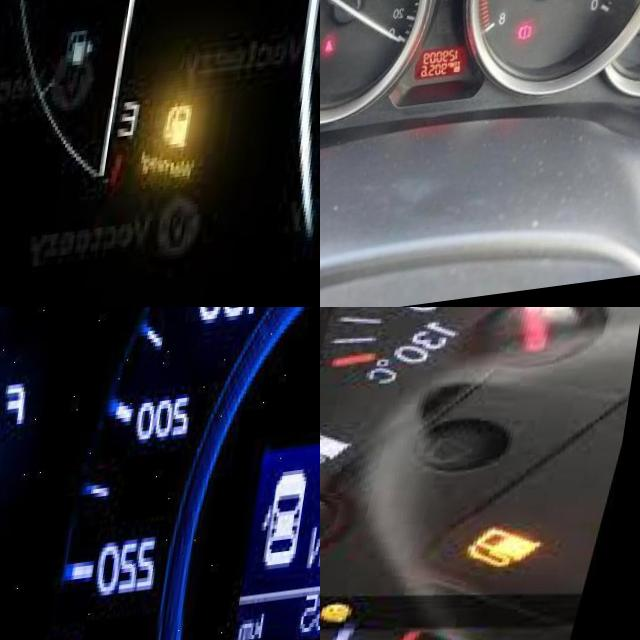Seat Belt: (335, 43, 347, 59)
